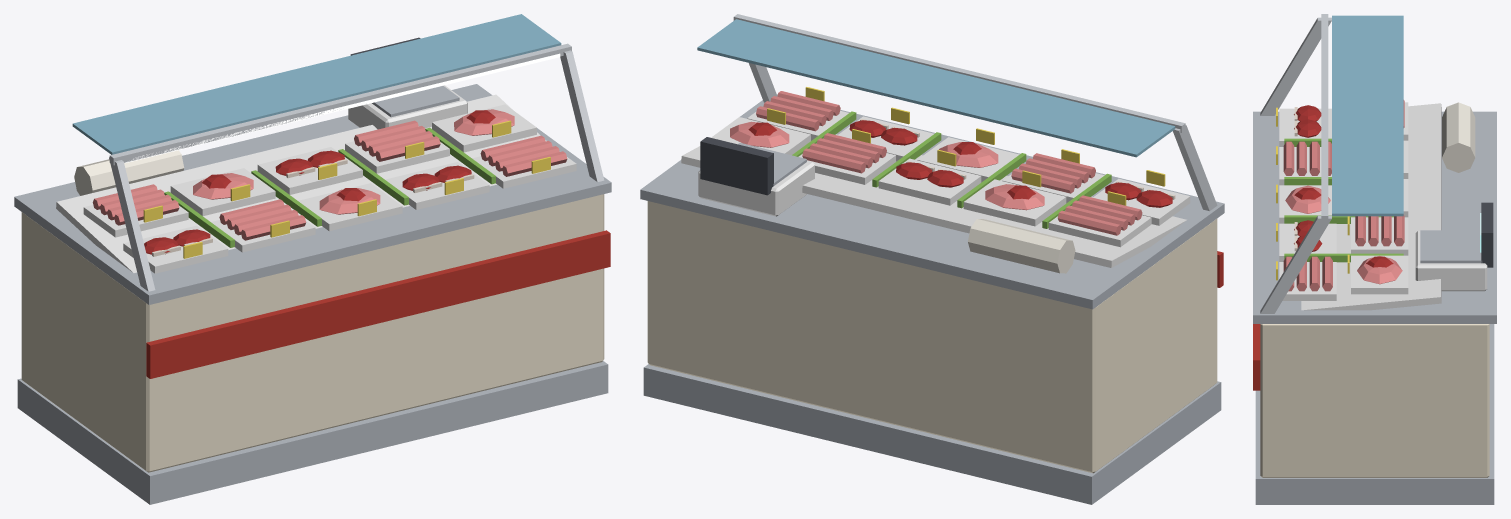
The model's file is Butcher_Counter_Glass.fbx.
3 views of the same model, side by side, from view 1: azimuth 30°, elevation 25°; view 2: azimuth 150°, elevation 25°; view 3: azimuth 270°, elevation 25° (orthographic). The views are drawn at different scales.
Visible parts, largest first — view 1: Butcher_Counter_Glass; view 2: Butcher_Counter_Glass; view 3: Butcher_Counter_Glass.
Part boxes in pixels (bbox=[...]): Butcher_Counter_Glass: bbox=[14, 14, 611, 504]; Butcher_Counter_Glass: bbox=[640, 14, 1224, 504]; Butcher_Counter_Glass: bbox=[1253, 14, 1496, 504].
Size of the model in its own units: 2.02 by 1.34 by 1.02.
Materials: 1 (1 with a texture image).
